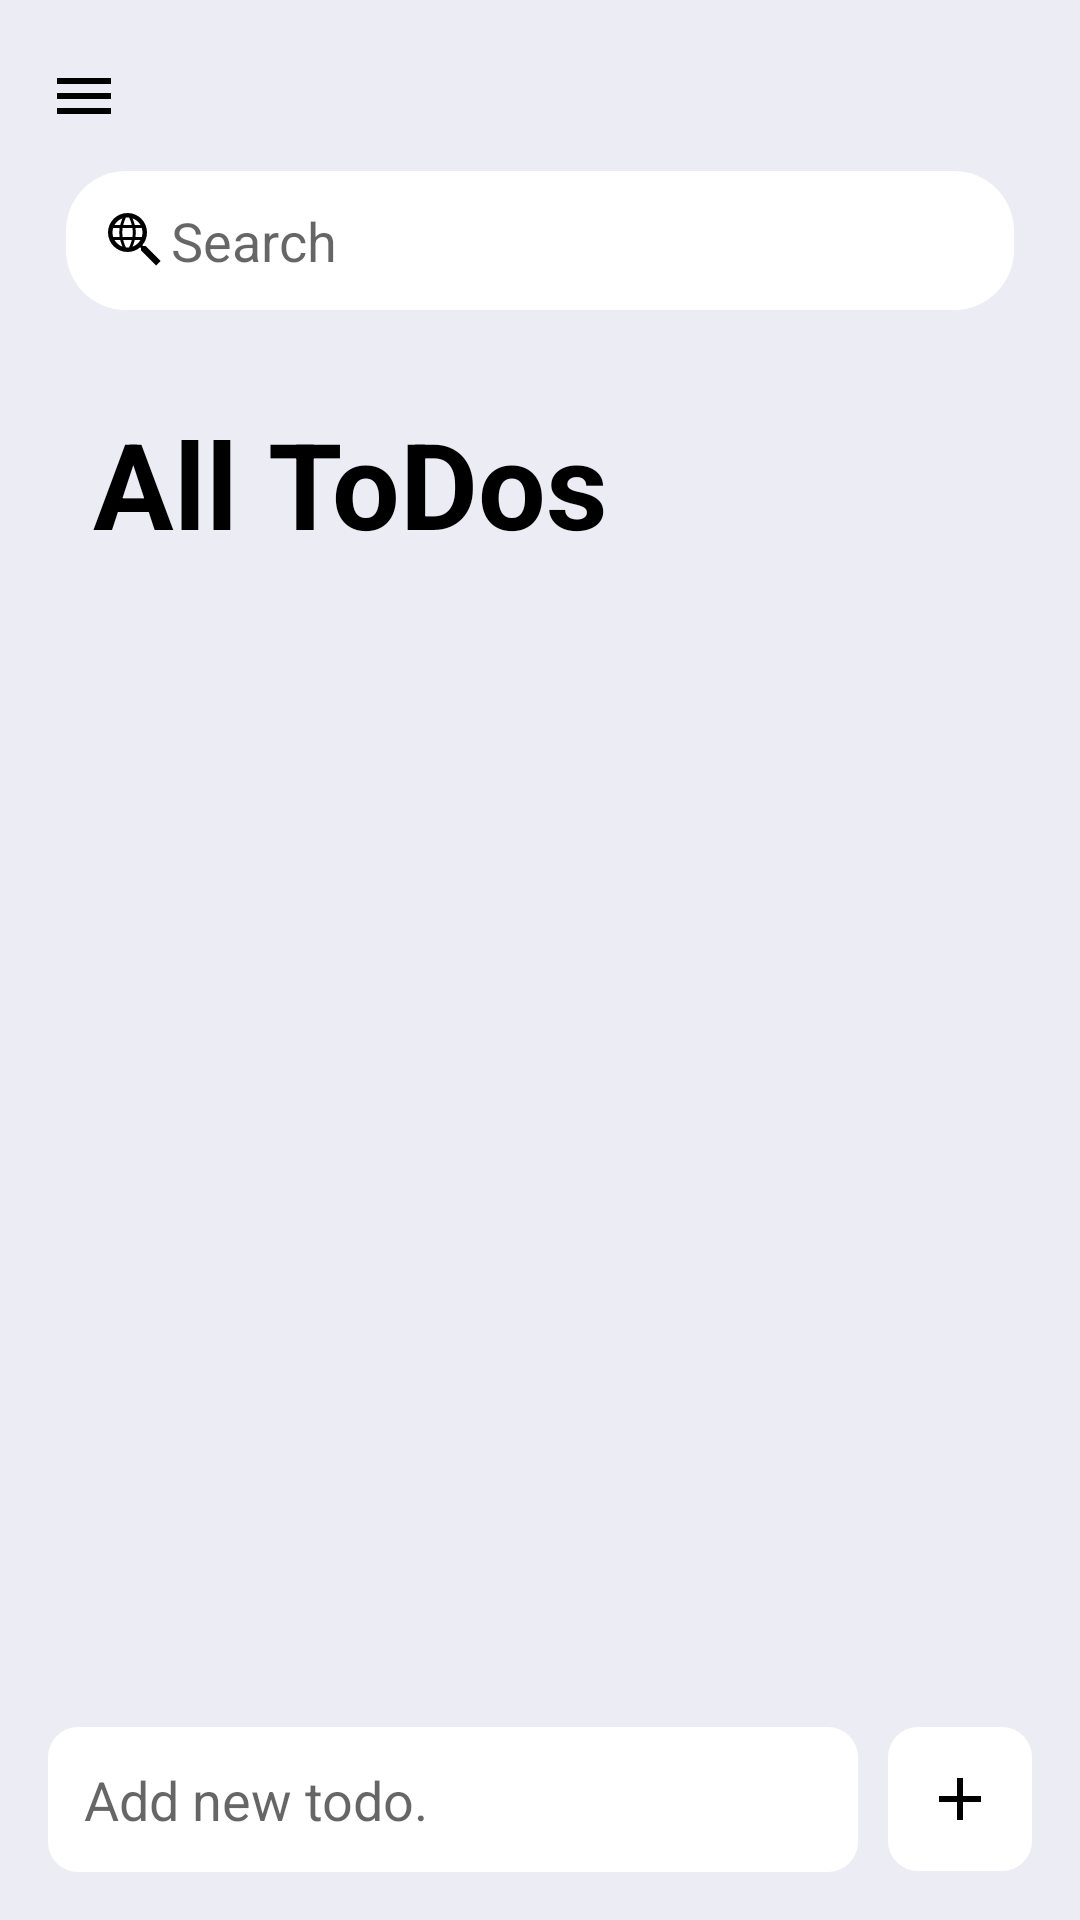

Named icons in this screenshot (1080px x 1920px) and their centers, [x,y]:
menu: [84,96]
plus: [960,1799]
